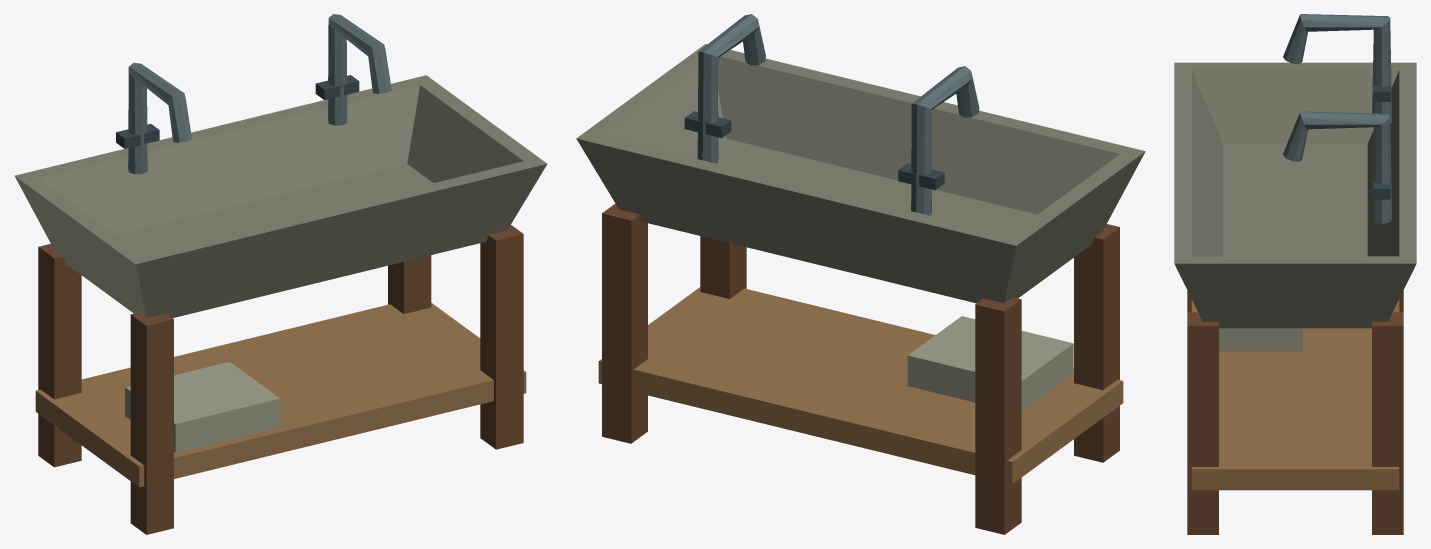
The model's file is Prop_Daily_OutdoorWashbasin_001.glb.
The picture shows the model from 3 angles, left to right: view 1: azimuth 30°, elevation 25°; view 2: azimuth 150°, elevation 25°; view 3: azimuth 270°, elevation 25°; orthographic projection. The views are drawn at different scales.
Visible parts, largest first — view 1: Prop_Daily_OutdoorWashbasin_001; view 2: Prop_Daily_OutdoorWashbasin_001; view 3: Prop_Daily_OutdoorWashbasin_001.
Boxes of the visible parts, x1,y1,x2,y2 form: Prop_Daily_OutdoorWashbasin_001: [14, 14, 547, 534]; Prop_Daily_OutdoorWashbasin_001: [576, 14, 1145, 534]; Prop_Daily_OutdoorWashbasin_001: [1174, 14, 1416, 534].
Bounding box in the file's own units: 1.65 × 1.45 × 0.84.
